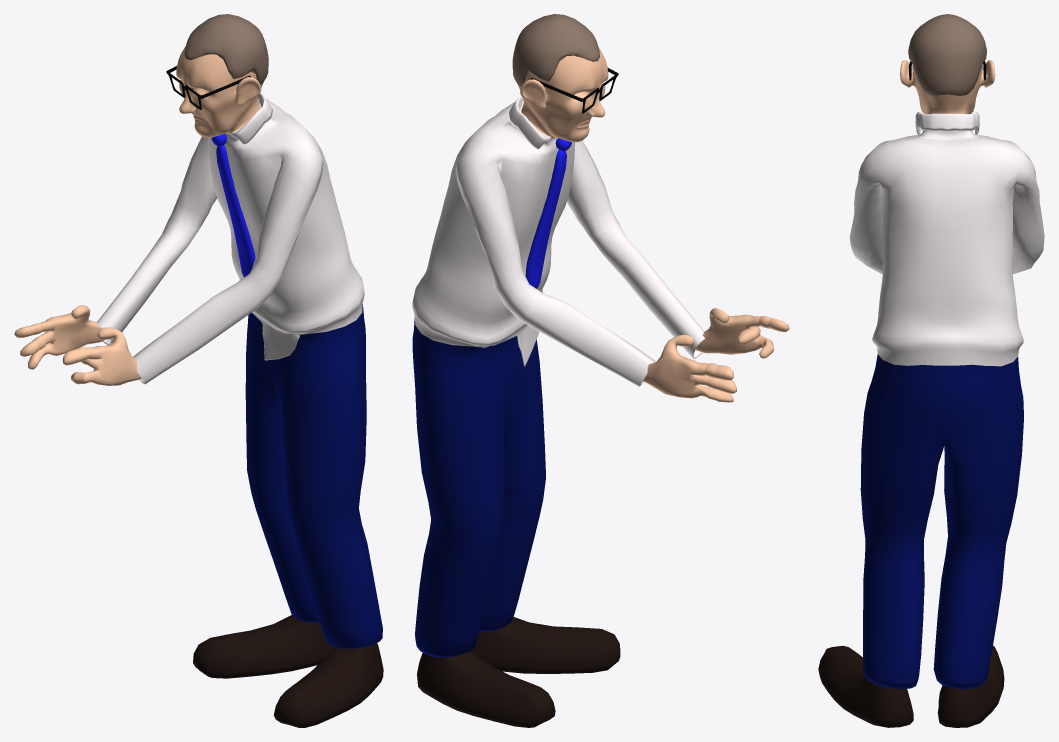
File: CRTVideoPuttingPackageInsideOfMartyBreakTheModel.fbx
3 views of the same model, side by side, from view 1: azimuth 30°, elevation 25°; view 2: azimuth 150°, elevation 25°; view 3: azimuth 270°, elevation 25° (orthographic). The views are drawn at different scales.
Visible parts, largest first — view 1: Cube.014; view 2: Cube.014; view 3: Cube.014.
Boxes of the visible parts, x1,y1,x2,y2 form: Cube.014: (14,14,383,727); Cube.014: (412,14,789,727); Cube.014: (818,14,1044,727).
Bounding box in the file's own units: 484 × 957 × 300.
